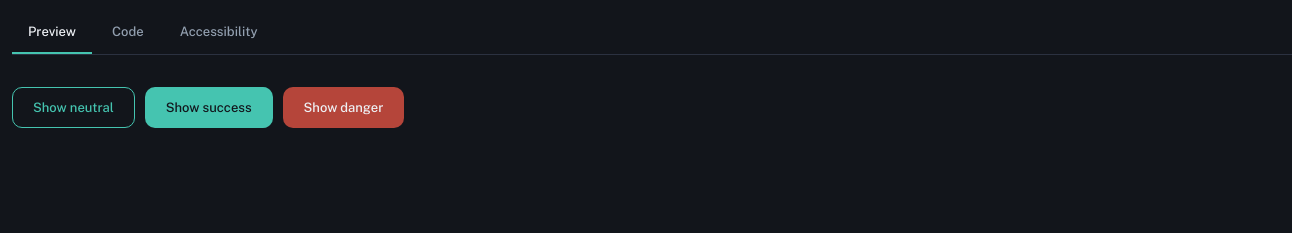
Test case: ToastDoc › switches to the Accessibility tab and lists the a11y notes
Click the tab "Accessibility" at {"x": 219, "y": 33}, box [164,12,274,54]
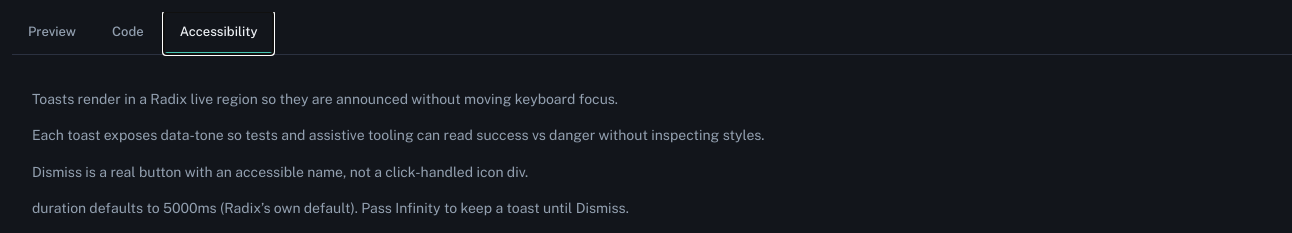
Expected: the list item "live region" is shown, [32,90,618,106]
Expected: the list item "data-tone" is shown, [32,127,764,143]
